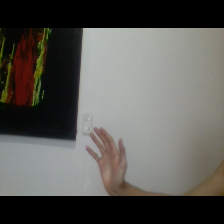left: (79, 121, 139, 194)
